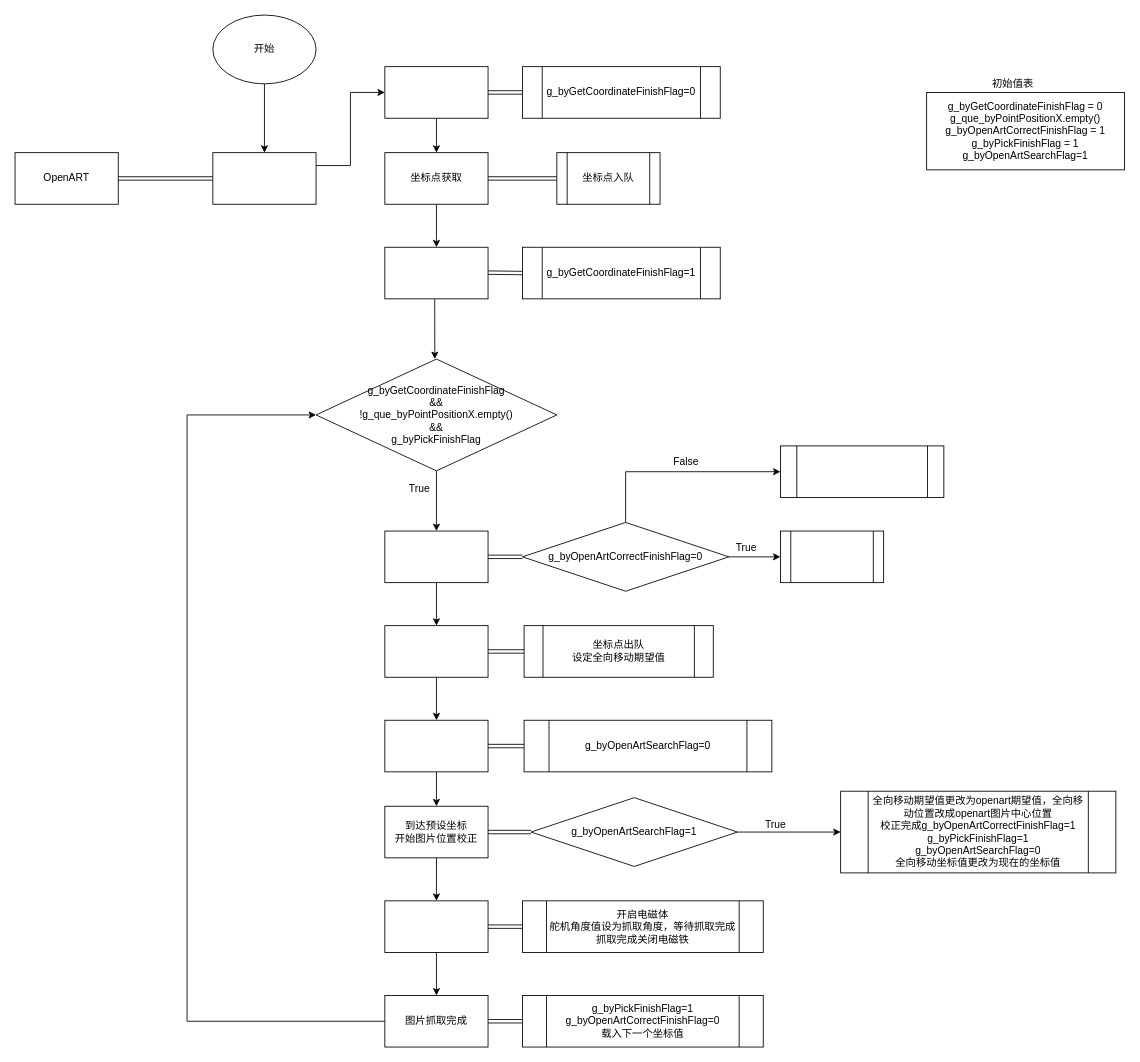
The diagram is 1140 pixels wide and 1062 high, and some of its shapes have lost their labels. The shapes that lost their labels are listed below. From the top down, each one's centre as x and y in pixels, then its label:
At [436,92]: "坐标点获取开始".
At [264,178]: "坐标纸坐标获取".
At [436,272]: "坐标点获取结束".
At [862,471]: "坐标式全向移动 一段时间后开启g_byOpenArtSearchFlag=1".
At [436,556]: "全向移动".
At [832,556]: "校正式全向移动".
At [436,651]: "前往指定坐标".
At [436,745]: "OpenART识别到图片矩形框".
At [436,926]: "开始抓取图片".
